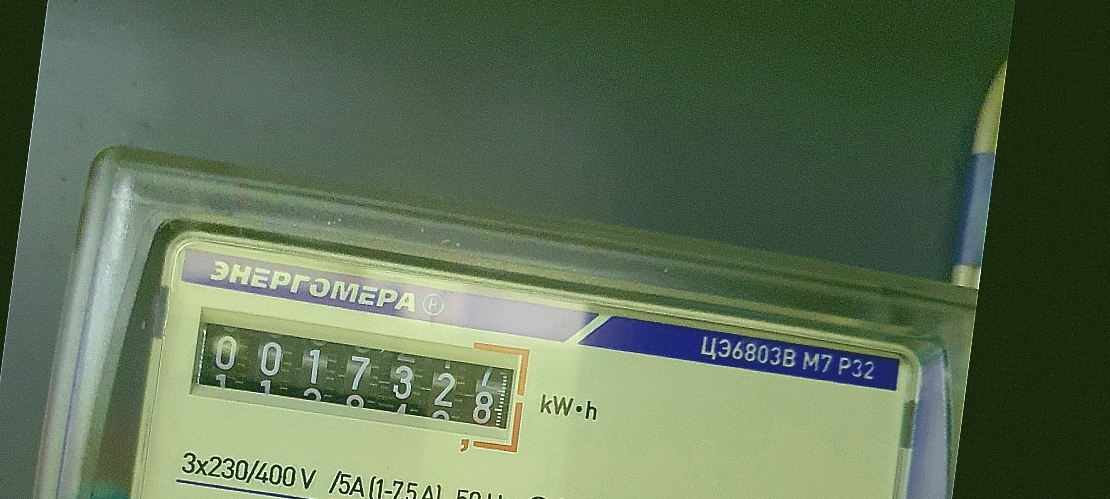0: (209, 331, 240, 373), (257, 338, 284, 378)
1: (301, 345, 324, 386)
2: (430, 369, 457, 409)
3: (389, 363, 416, 401)
7: (345, 352, 371, 393)
8: (470, 387, 493, 425)
screen: (175, 302, 540, 461)
